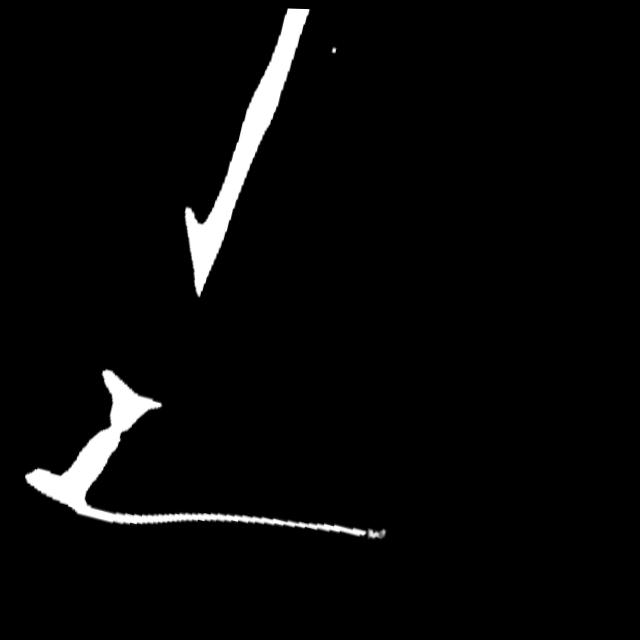stp: (359, 517, 394, 549)
